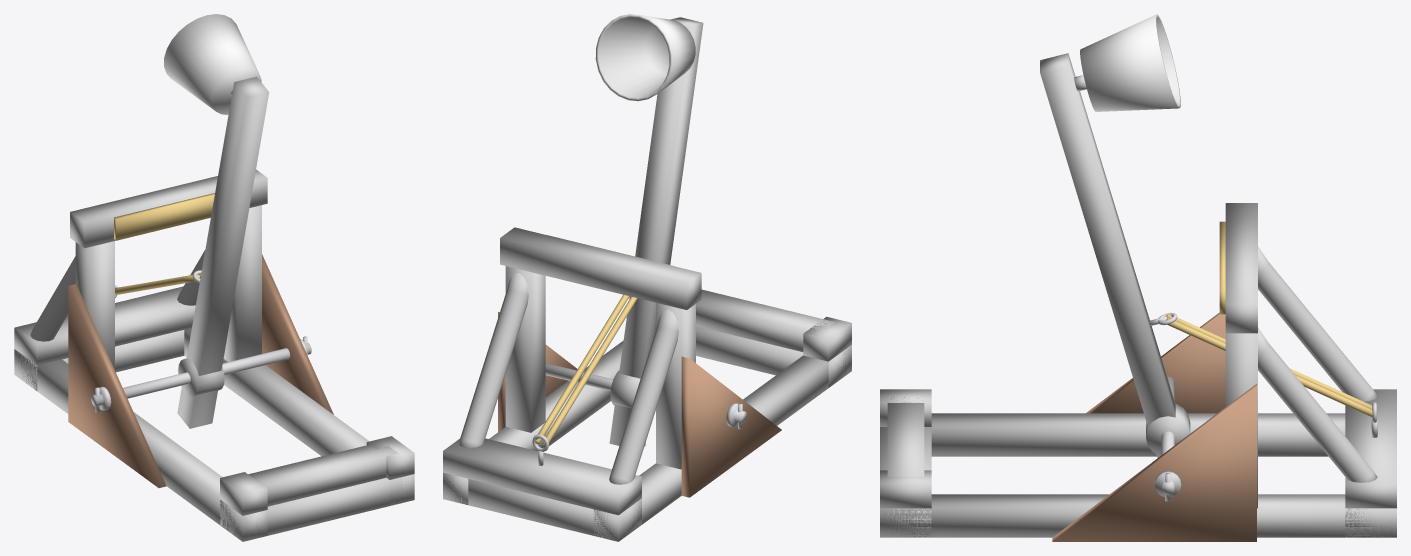
Rendered from catapulta.fbx.
The picture shows the model from 3 angles, left to right: view 1: azimuth 30°, elevation 25°; view 2: azimuth 150°, elevation 25°; view 3: azimuth 270°, elevation 25°; orthographic projection. The views are drawn at different scales.
Visible parts, largest first — view 1: SM_ToyCatapult_Craft; view 2: SM_ToyCatapult_Craft; view 3: SM_ToyCatapult_Craft.
Boxes of the visible parts, left/top/right/bottom form: SM_ToyCatapult_Craft: left=14, top=14, right=414, bottom=541; SM_ToyCatapult_Craft: left=443, top=14, right=851, bottom=541; SM_ToyCatapult_Craft: left=880, top=14, right=1396, bottom=541.
Bounding box in the file's own units: 0.19 × 0.3525 × 0.35.
